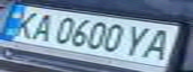0: (45, 15, 78, 46), (103, 20, 130, 55), (87, 19, 109, 52)
6: (66, 17, 90, 48)
A: (139, 26, 184, 61), (24, 11, 60, 43)
K: (3, 8, 45, 39)
Y: (121, 24, 160, 57)
